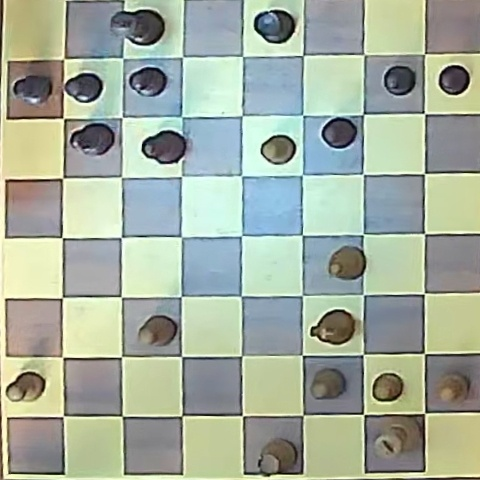black-bishop: (142, 130, 185, 164), (70, 123, 114, 156)
black-king: (112, 9, 163, 46)
black-pawn: (65, 72, 104, 103), (13, 75, 52, 106), (128, 67, 166, 96), (322, 117, 357, 148), (383, 65, 416, 95), (438, 65, 470, 95)
black-rook: (254, 9, 294, 43)
white-bishop: (327, 246, 366, 280)
white-king: (374, 417, 420, 459)
white-knight: (311, 310, 355, 346)
white-pawn: (137, 315, 176, 347), (6, 372, 45, 403), (310, 369, 344, 400), (261, 135, 296, 164), (436, 374, 468, 403), (372, 373, 404, 402)
white-rook: (259, 438, 296, 475)
